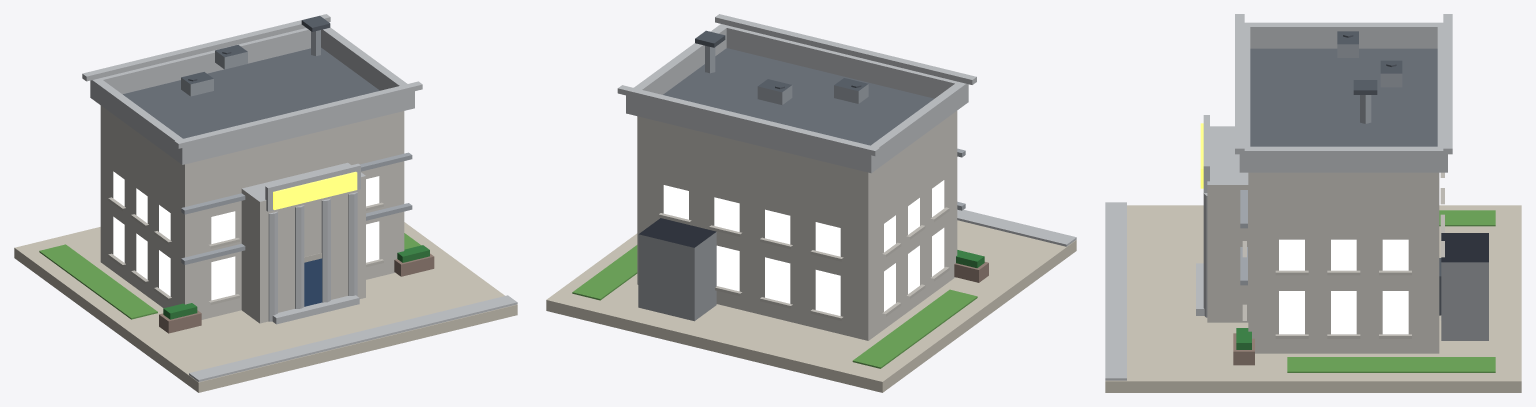
3 views of the same model, side by side, from view 1: azimuth 30°, elevation 25°; view 2: azimuth 150°, elevation 25°; view 3: azimuth 270°, elevation 25° (orthographic). The views are drawn at different scales.
Parts seen in each view (by area): view 1: b17_v2; view 2: b17_v2; view 3: b17_v2.
Boxes of the visible parts, <box> form: b17_v2: <box>14,14,517,392</box>; b17_v2: <box>546,14,1076,392</box>; b17_v2: <box>1105,14,1521,392</box>.
Size of the model in its own units: 0.96 by 0.662 by 0.96.
